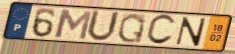6: (31, 7, 57, 39)
C: (144, 13, 177, 46)
M: (53, 8, 94, 41)
N: (173, 16, 208, 48)
Q: (115, 12, 147, 45)
U: (85, 9, 122, 43)
